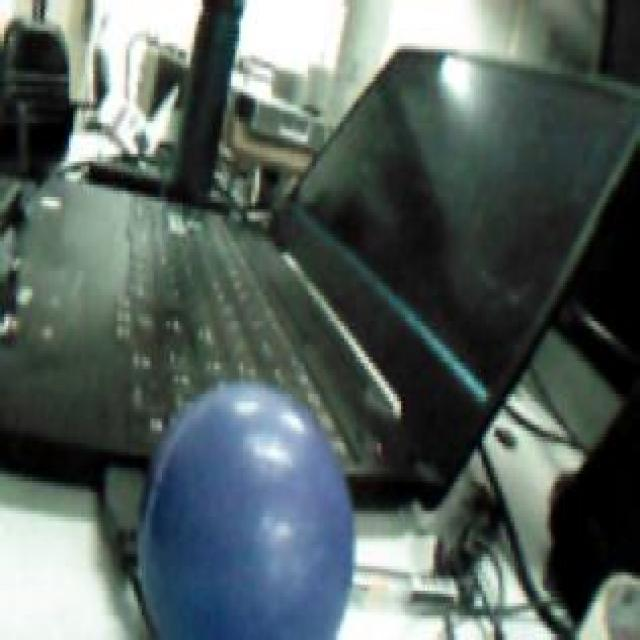BallPurple: (134, 382, 354, 640)
